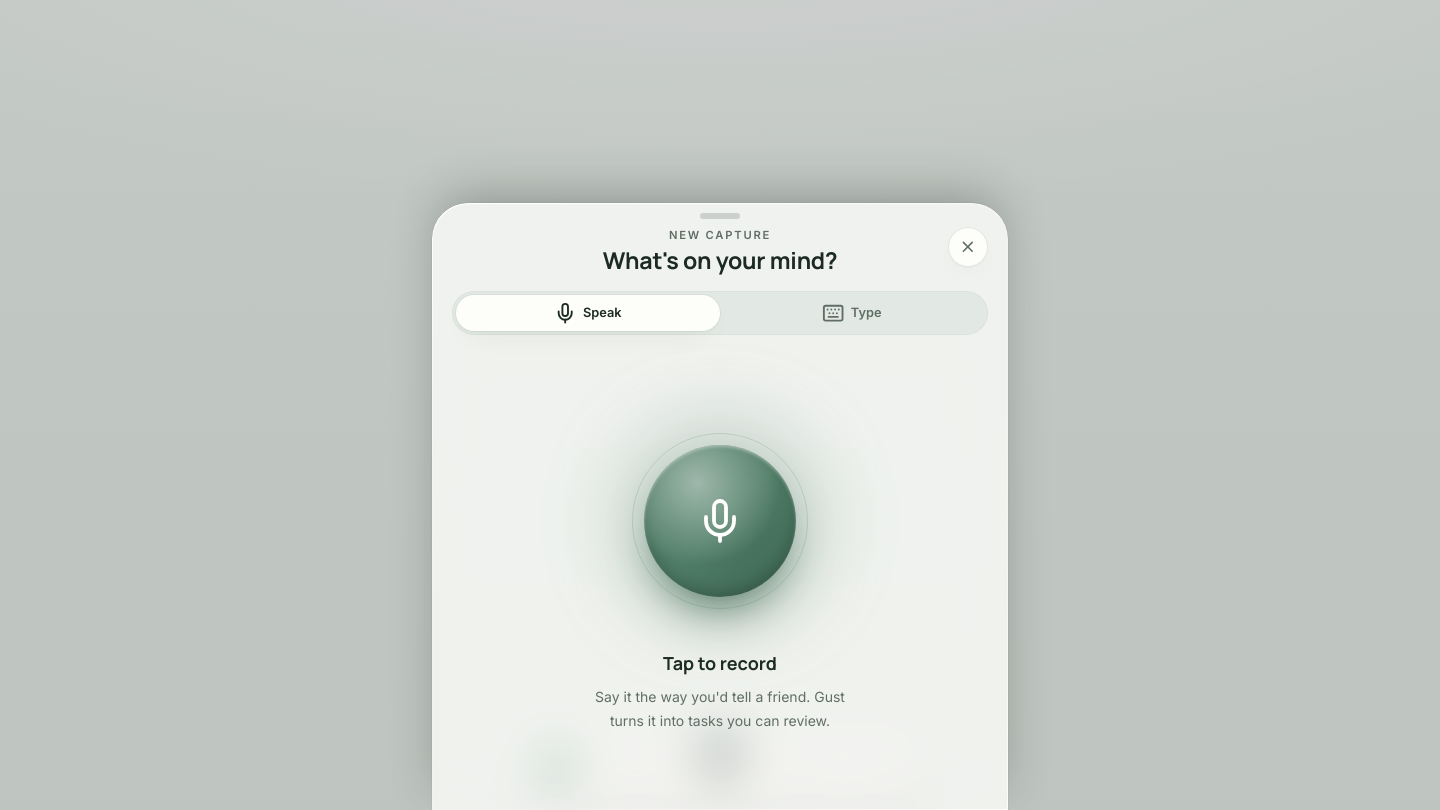
Test: capture route › shows loading state for the latest capture instead of an empty review state
Click the button named "Start recording": (720, 520) [644,444,796,596]
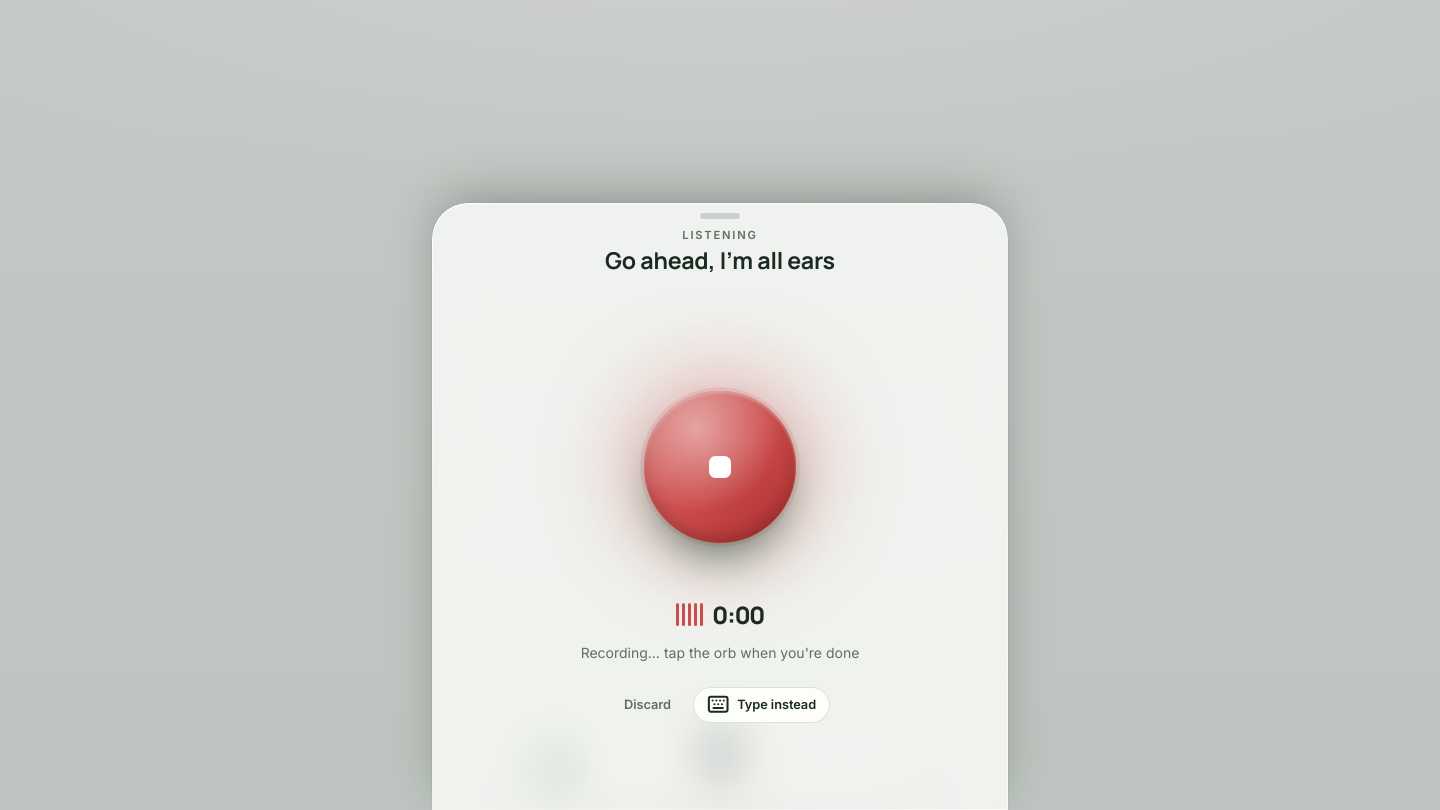
Click the button named "Stop recording": (720, 466) [644,390,796,542]
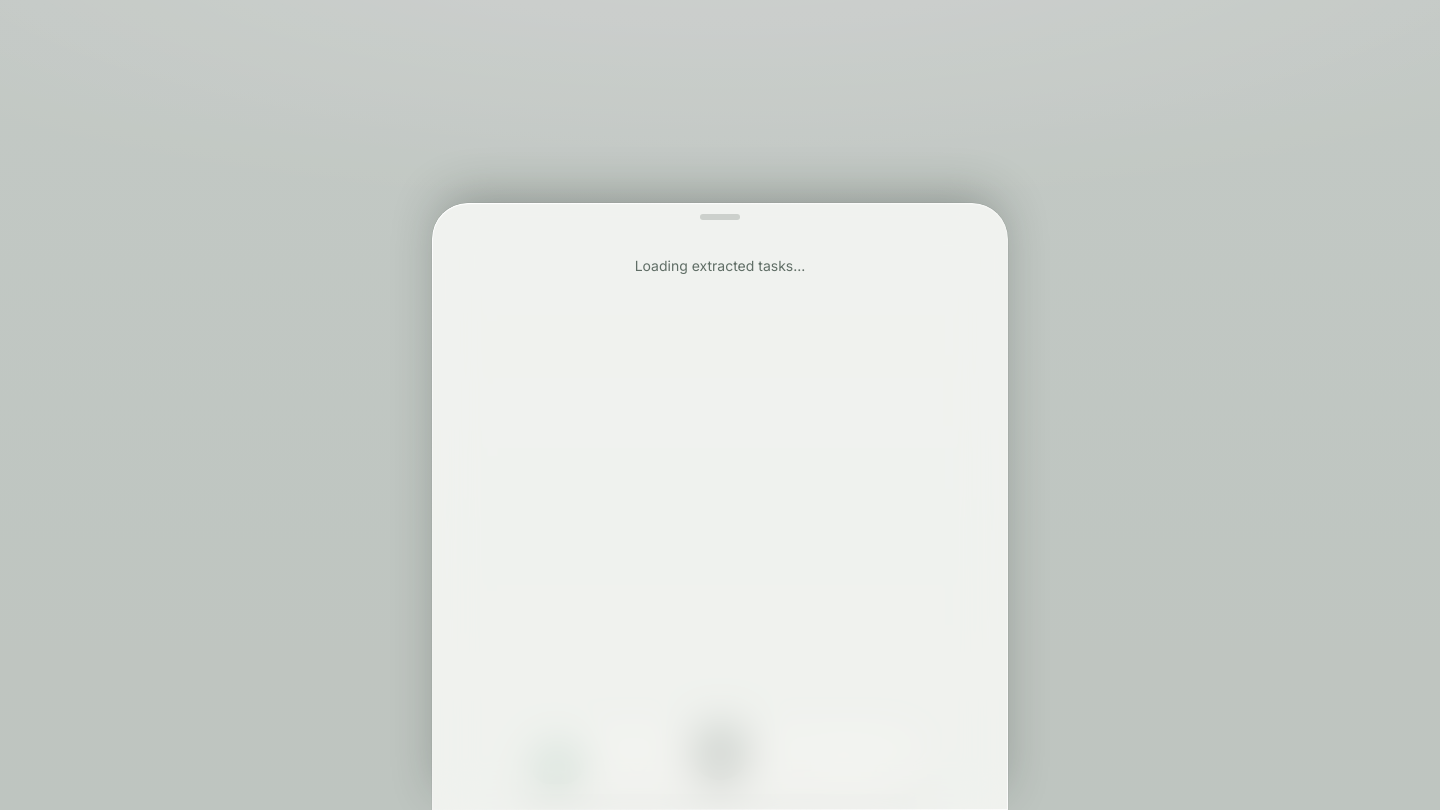
Result: the text "Loading extracted tasks..." is shown at [635,256,805,274]
